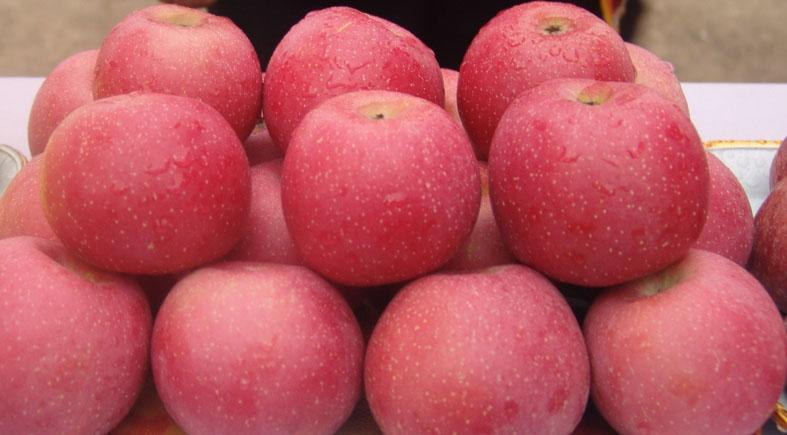apple: (484, 75, 706, 284), (36, 87, 249, 268), (356, 256, 582, 425), (144, 251, 357, 428), (283, 90, 476, 284), (571, 244, 770, 427), (1, 221, 153, 421), (85, 5, 255, 136), (29, 49, 106, 153)
